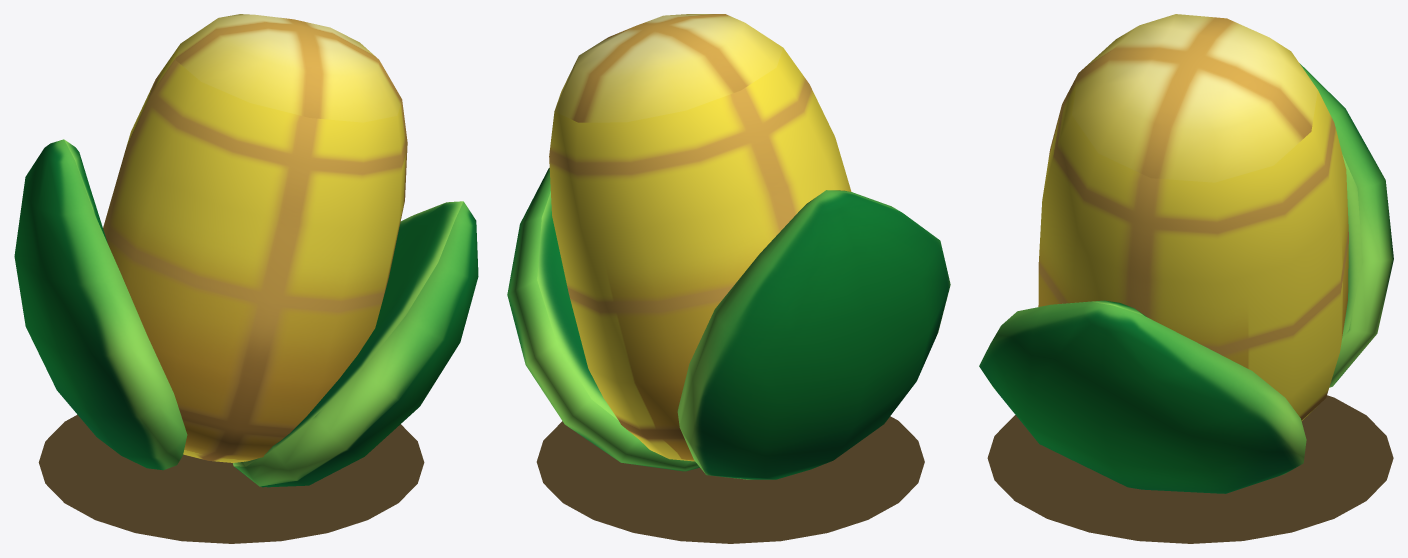
File: Corn_L04.fbx
3 views of the same model, side by side, from view 1: azimuth 30°, elevation 25°; view 2: azimuth 150°, elevation 25°; view 3: azimuth 270°, elevation 25° (orthographic). The views are drawn at different scales.
Visible parts, largest first — view 1: CornL04_body, WT_CornL4_SDW; view 2: CornL04_body, WT_CornL4_SDW; view 3: CornL04_body, WT_CornL4_SDW.
Part boxes in pixels (x1=…): CornL04_body: x1=14, y1=14, x2=478, y2=487; WT_CornL4_SDW: x1=38, y1=414, x2=424, y2=543; CornL04_body: x1=507, y1=14, x2=950, y2=479; WT_CornL4_SDW: x1=536, y1=416, x2=924, y2=543; CornL04_body: x1=979, y1=14, x2=1393, y2=493; WT_CornL4_SDW: x1=987, y1=395, x2=1393, y2=543.
Bounding box in the file's own units: 60.65 × 62.17 × 51.43.
